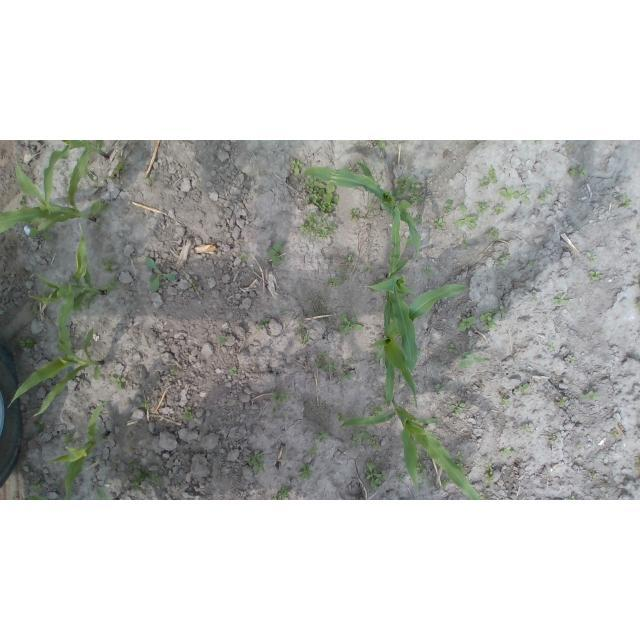Maize: (339, 397, 480, 500), (7, 282, 105, 419), (368, 283, 470, 410), (300, 161, 420, 254), (0, 147, 104, 241), (363, 207, 422, 372), (29, 233, 106, 313), (51, 404, 106, 501), (45, 140, 110, 212), (26, 496, 47, 500)
Weeds: (304, 176, 339, 213), (146, 257, 175, 291), (304, 214, 337, 238), (364, 460, 384, 489), (455, 204, 478, 228), (339, 316, 364, 334), (459, 351, 483, 369), (129, 469, 148, 487), (480, 168, 497, 188), (270, 241, 284, 265), (249, 455, 265, 474), (113, 156, 129, 175), (499, 187, 520, 200), (295, 329, 310, 347), (291, 159, 306, 177), (395, 178, 407, 199), (459, 316, 475, 331), (110, 374, 126, 389), (299, 464, 312, 481), (521, 187, 533, 205), (538, 187, 552, 201), (278, 485, 291, 500), (314, 431, 329, 444), (555, 292, 571, 304), (451, 405, 465, 418), (276, 393, 292, 404), (500, 446, 513, 459), (485, 229, 500, 240), (584, 391, 600, 401), (320, 364, 340, 372), (433, 218, 445, 231), (619, 196, 631, 208), (513, 386, 529, 395), (328, 279, 341, 290), (417, 460, 427, 474), (587, 252, 598, 264), (481, 312, 494, 322), (372, 140, 388, 148), (350, 430, 358, 446), (590, 270, 601, 281), (485, 472, 496, 483), (103, 261, 114, 272), (521, 423, 533, 433), (107, 280, 117, 292), (579, 167, 588, 180), (496, 202, 505, 215), (449, 345, 459, 356), (350, 209, 360, 220), (556, 396, 568, 405), (499, 307, 506, 322), (361, 431, 371, 441), (443, 203, 452, 214), (152, 474, 161, 485), (183, 412, 194, 421), (220, 335, 229, 346), (345, 254, 354, 265), (568, 166, 575, 179), (424, 266, 433, 276), (316, 355, 326, 364), (345, 370, 355, 379), (416, 191, 425, 201), (411, 184, 422, 192), (568, 355, 577, 364), (398, 474, 407, 483), (486, 461, 494, 471), (43, 232, 53, 240), (478, 204, 486, 213), (456, 451, 464, 460), (35, 421, 44, 429), (254, 326, 263, 334), (149, 177, 156, 187), (27, 340, 37, 347), (374, 406, 384, 413), (190, 279, 195, 292), (31, 306, 39, 314), (142, 401, 150, 409), (171, 369, 180, 376), (20, 339, 27, 348), (338, 414, 347, 421), (232, 367, 239, 376), (261, 318, 270, 325), (365, 267, 374, 274), (486, 324, 498, 329), (369, 440, 379, 446), (101, 203, 111, 209), (413, 214, 420, 222), (113, 461, 119, 470), (462, 239, 467, 249), (547, 343, 554, 350), (97, 222, 104, 229), (312, 447, 319, 454), (20, 197, 26, 205), (44, 290, 52, 296), (299, 317, 305, 325), (239, 255, 248, 260), (500, 257, 507, 263), (528, 261, 535, 267), (565, 145, 572, 151), (589, 469, 596, 475), (550, 433, 557, 439), (600, 480, 608, 485), (281, 307, 286, 315), (611, 430, 616, 437), (576, 445, 583, 450), (457, 462, 464, 467), (501, 400, 508, 405), (409, 196, 416, 201), (31, 485, 39, 489), (635, 456, 640, 462), (435, 385, 441, 390), (535, 140, 542, 144), (534, 294, 538, 301), (484, 455, 489, 460), (480, 493, 484, 499), (571, 496, 576, 500), (444, 481, 449, 485), (340, 263, 345, 267), (476, 141, 481, 144)
